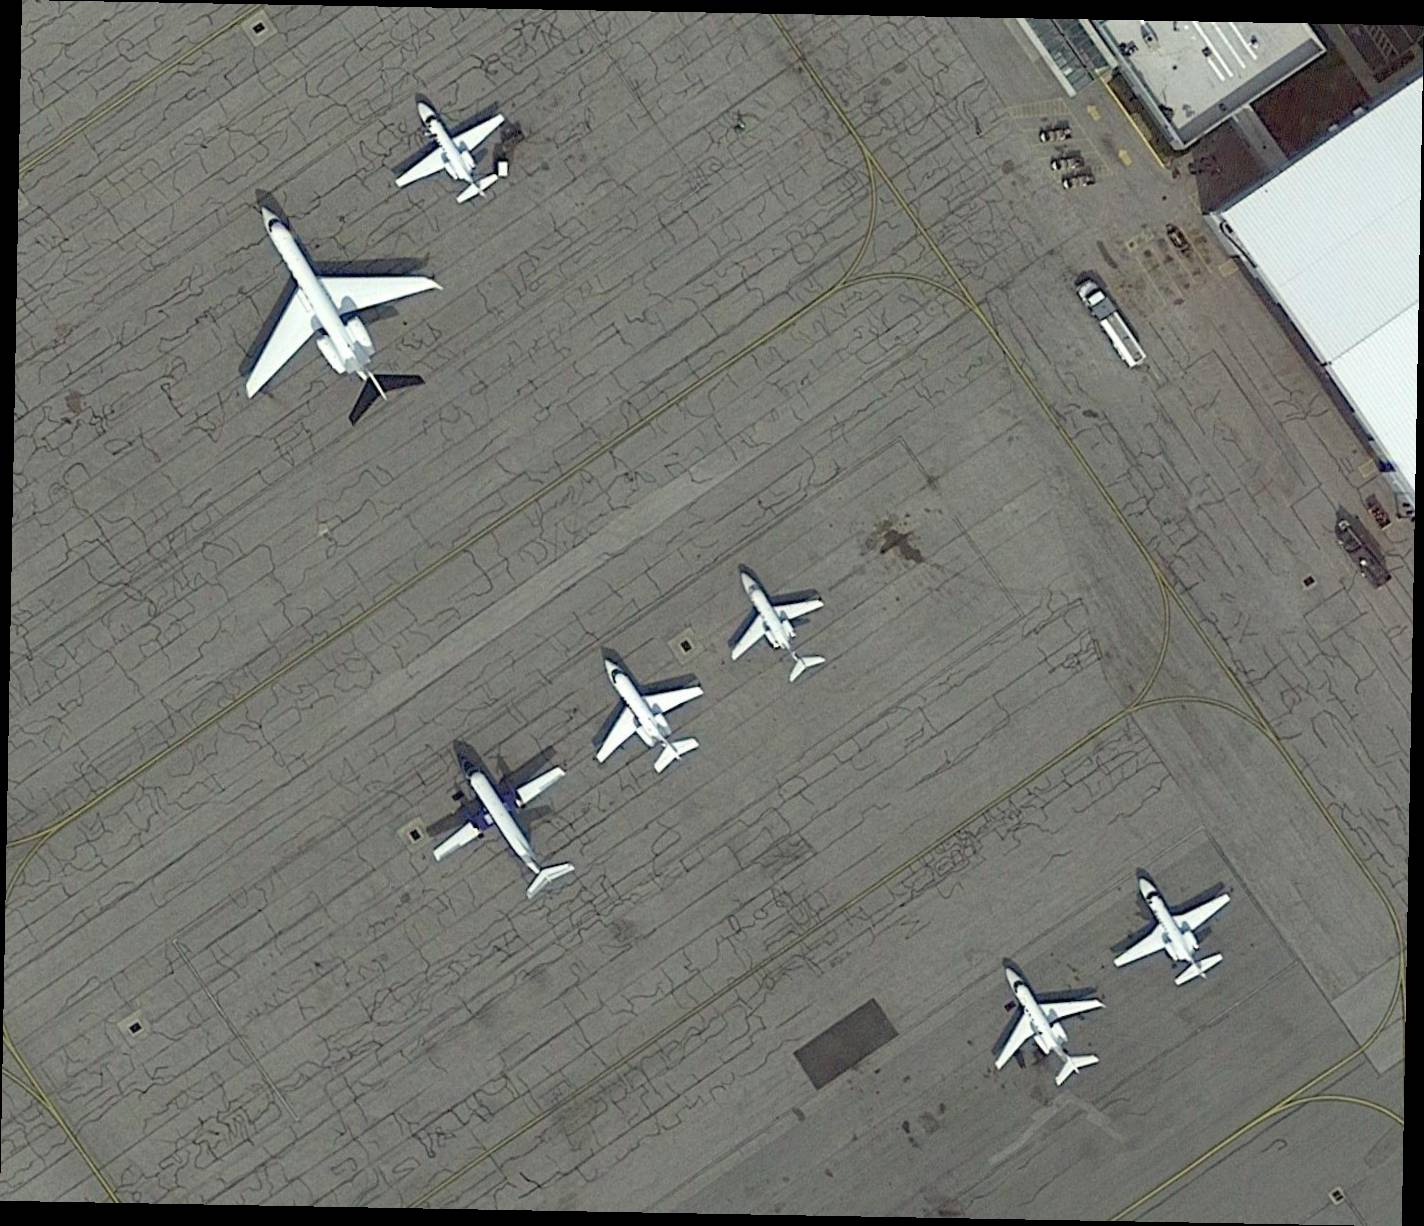large vehicle: (1070, 274, 1152, 373), (1326, 512, 1397, 598)
plane: (178, 148, 484, 466), (397, 706, 616, 930), (937, 926, 1130, 1115), (1070, 840, 1268, 1024), (550, 621, 731, 801), (681, 542, 855, 724), (362, 67, 544, 239)
small vehicle: (1162, 219, 1198, 260), (1060, 172, 1096, 191), (1037, 128, 1076, 145), (1049, 156, 1090, 172)
